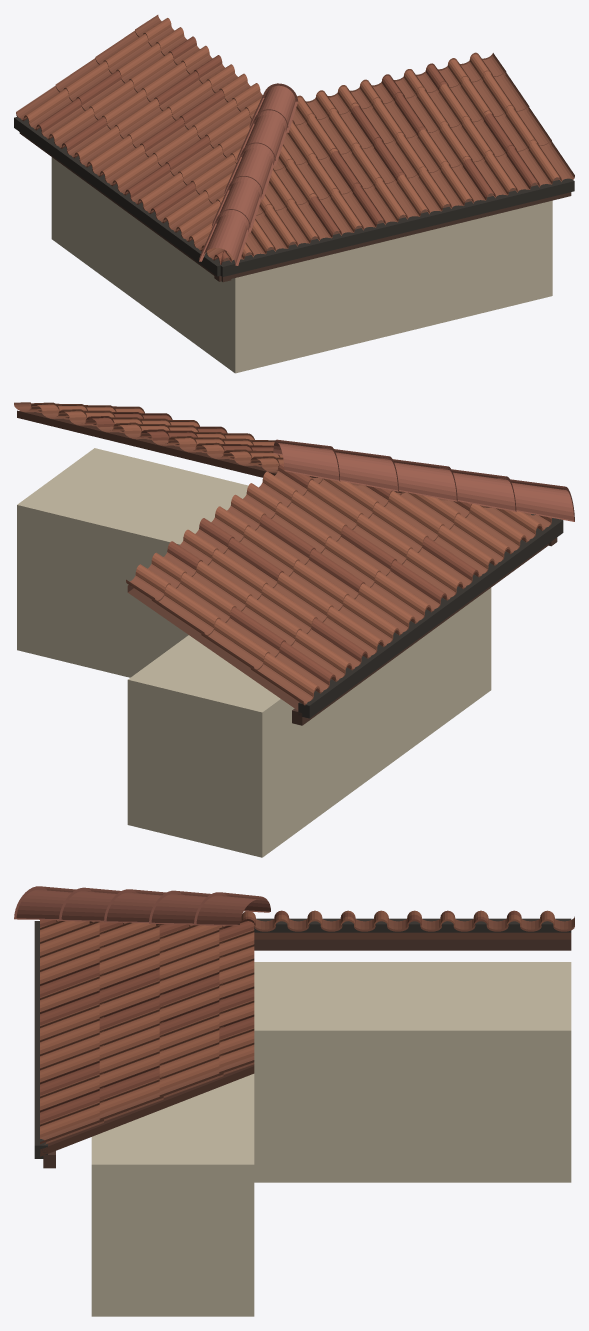
The model's file is xuhui-kangping-1-hipped-tile-eaves-raw.glb.
The picture shows the model from 3 angles, top to bottom: view 1: azimuth 30°, elevation 25°; view 2: azimuth 150°, elevation 25°; view 3: azimuth 270°, elevation 25°; orthographic projection. The views are drawn at different scales.
Parts seen in each view (by area): view 1: 康平路1号花园住宅街角红瓦檐; view 2: 康平路1号花园住宅街角红瓦檐; view 3: 康平路1号花园住宅街角红瓦檐.
Part boxes in pixels (x1,y1,x2,y2): 康平路1号花园住宅街角红瓦檐: [14, 15, 574, 373]; 康平路1号花园住宅街角红瓦檐: [14, 402, 574, 857]; 康平路1号花园住宅街角红瓦檐: [14, 886, 574, 1316].
Size of the model in its own units: 3.24 by 1.82 by 3.24.
